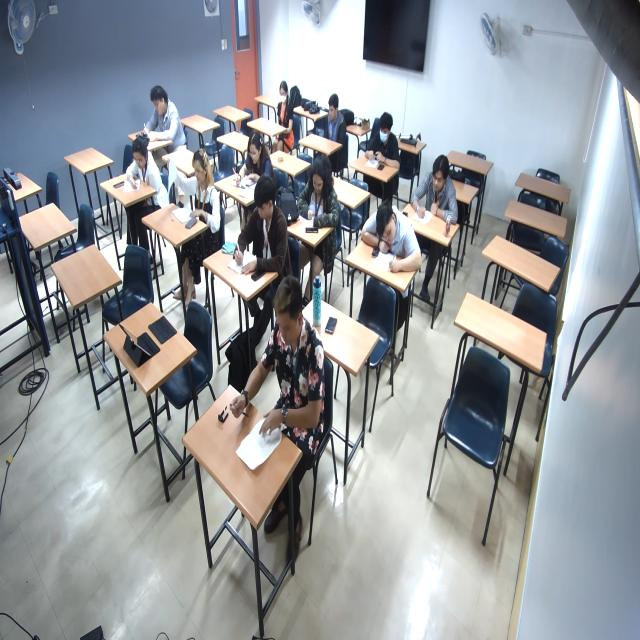read: (241, 276, 336, 445), (221, 188, 284, 287), (365, 201, 422, 280), (287, 156, 341, 238), (409, 157, 464, 232), (170, 157, 218, 235), (360, 113, 405, 180), (135, 84, 183, 144), (225, 137, 268, 201), (116, 133, 153, 199)
